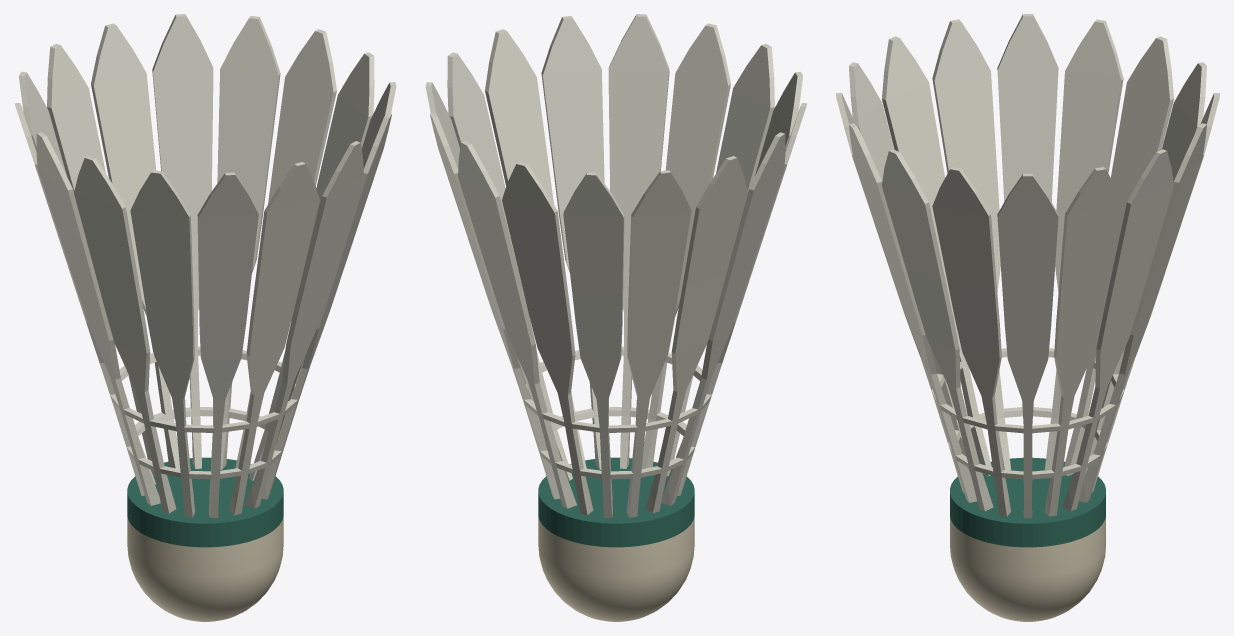
The model's file is A-NEW-20261027-SHUTTLECOCK-001_LOD1_R8.fbx.
3 views of the same model, side by side, from view 1: azimuth 30°, elevation 25°; view 2: azimuth 150°, elevation 25°; view 3: azimuth 270°, elevation 25° (orthographic).
Visible parts, largest first — view 1: shared topology head and sixteen distinct feathers; view 2: shared topology head and sixteen distinct feathers; view 3: shared topology head and sixteen distinct feathers.
Boxes of the visible parts, x1,y1,x2,y2 form: shared topology head and sixteen distinct feathers: (14,14,396,621); shared topology head and sixteen distinct feathers: (425,14,807,621); shared topology head and sixteen distinct feathers: (836,14,1219,621).
Size of the model in its own units: 5.89 by 8.8 by 5.89.
